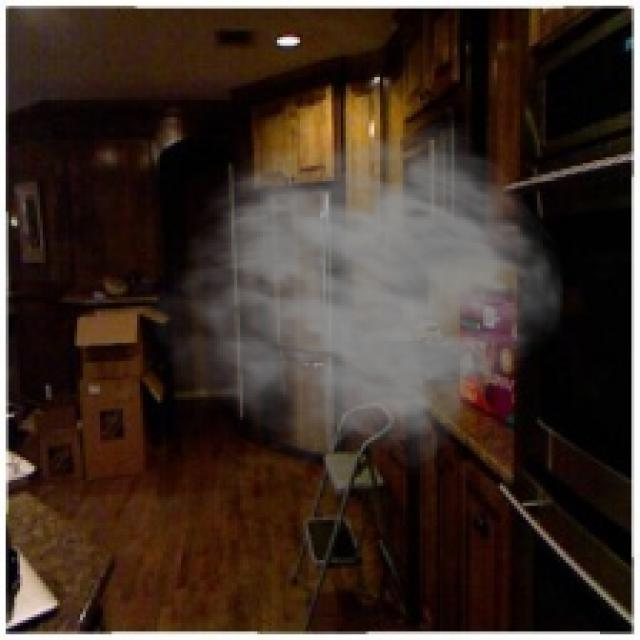smoke: (145, 123, 566, 474)
